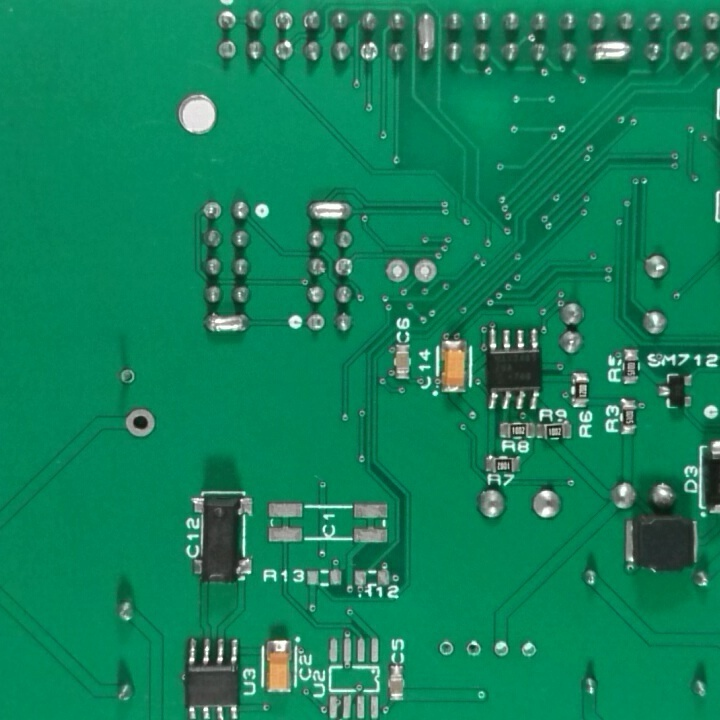F: (122, 407, 156, 440), (381, 255, 408, 286), (413, 255, 439, 286), (270, 7, 295, 35), (517, 635, 541, 664), (213, 7, 237, 35), (493, 635, 513, 666), (303, 310, 328, 334), (333, 255, 355, 281), (359, 40, 382, 64), (116, 364, 137, 389), (464, 637, 484, 662), (201, 199, 221, 223), (434, 638, 455, 658)
P: (413, 8, 438, 67), (304, 198, 354, 226), (203, 309, 250, 338), (588, 36, 633, 66)
